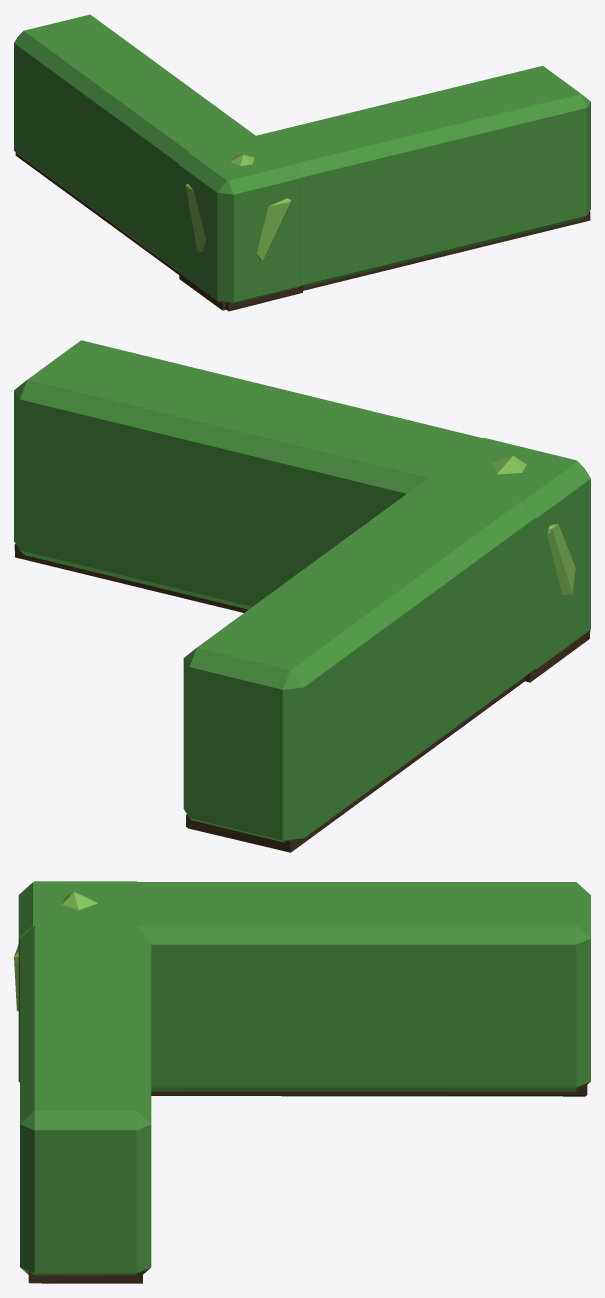
3 renders of one model, top to bottom at view 1: azimuth 30°, elevation 25°; view 2: azimuth 150°, elevation 25°; view 3: azimuth 270°, elevation 25°, orthographic. The views are drawn at different scales.
Visible parts, largest first — view 1: WK_TownFlora_FormalHedgeCorner_LOD2_Compact; view 2: WK_TownFlora_FormalHedgeCorner_LOD2_Compact; view 3: WK_TownFlora_FormalHedgeCorner_LOD2_Compact.
Part boxes in pixels (left/top/right/bottom): WK_TownFlora_FormalHedgeCorner_LOD2_Compact: left=14, top=14, right=590, bottom=311; WK_TownFlora_FormalHedgeCorner_LOD2_Compact: left=14, top=340, right=590, bottom=852; WK_TownFlora_FormalHedgeCorner_LOD2_Compact: left=14, top=881, right=590, bottom=1283.
Bounding box in the file's own units: 3.96 × 1.35 × 3.95.
